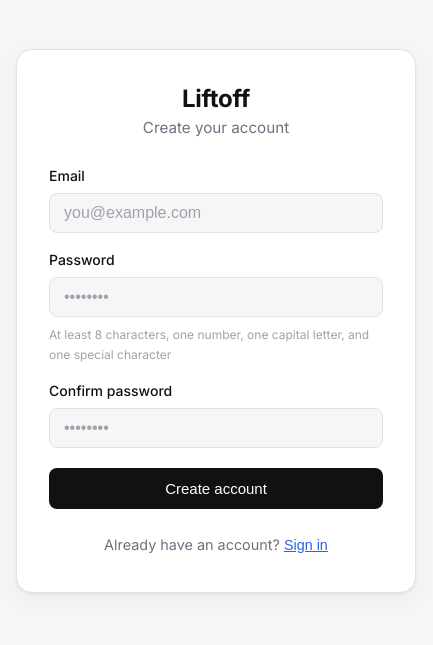
Test case: RegisterPage › shows error for password shorter than 8 characters
Step 1. Type "test@example.com" into the field labelled "Email" → (216, 213), box [49, 193, 383, 233]
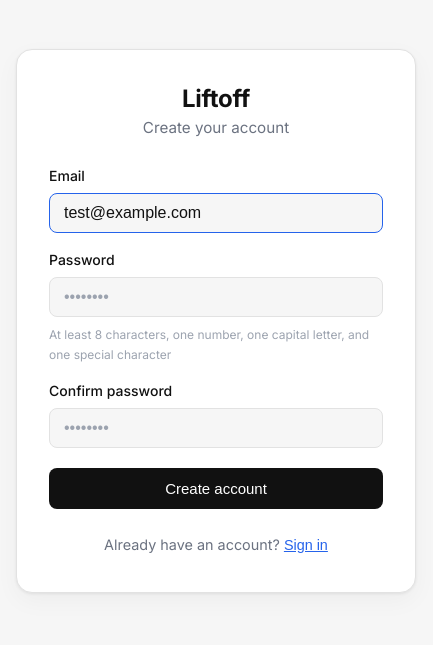
Step 2. Type "Sh0!" into the password field labelled "Password" → (216, 297), box [49, 277, 383, 317]
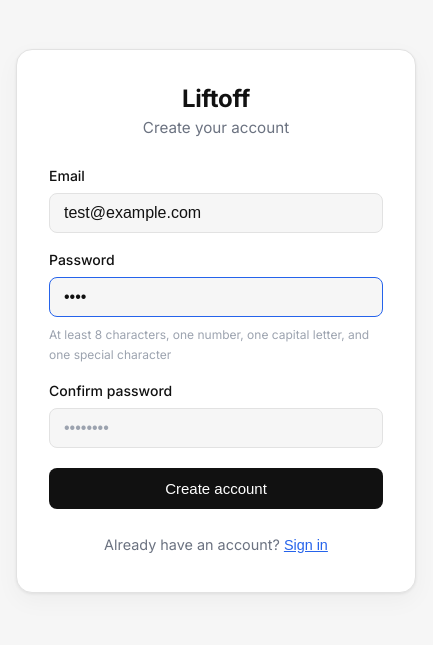
Step 3. Type "Sh0!" into the password field labelled "Confirm password" → (216, 428), box [49, 408, 383, 448]
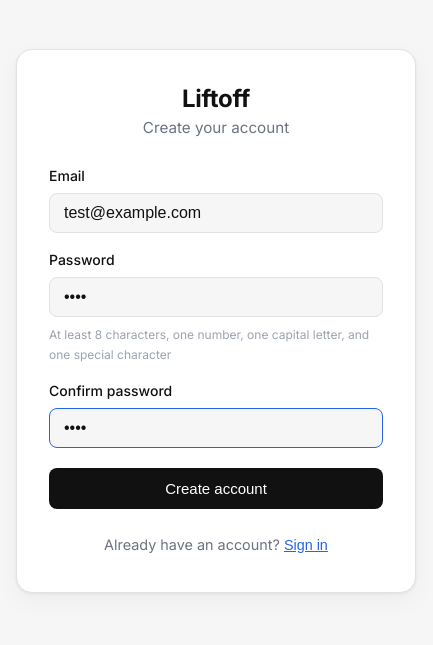
Step 4. Click the button "Create account" → (216, 489), box [49, 468, 383, 509]
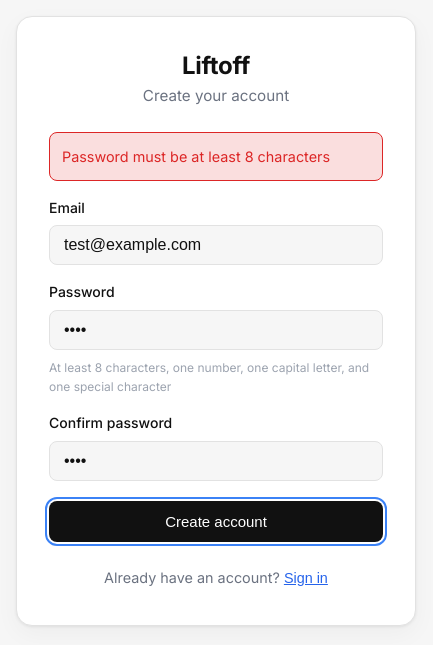
Expected: the text "Password must be at least 8 characters" is shown, [49, 132, 383, 181]
